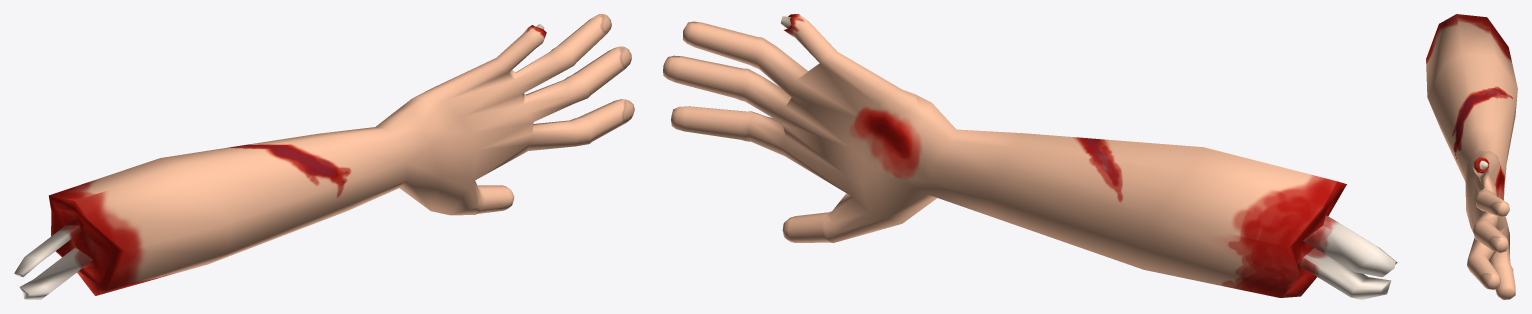
The model's file is Brazo.fbx.
3 views of the same model, side by side, from view 1: azimuth 30°, elevation 25°; view 2: azimuth 150°, elevation 25°; view 3: azimuth 270°, elevation 25° (orthographic). The views are drawn at different scales.
Parts seen in each view (by area): view 1: Mano; view 2: Mano; view 3: Mano.
Boxes of the visible parts, x1,y1,x2,y2 form: Mano: (14,14,634,299); Mano: (663,14,1397,299); Mano: (1426,14,1517,299).
Bounding box in the file's own units: 215 × 61.13 × 34.54.
